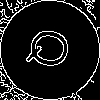Q: (25, 25, 81, 73)
